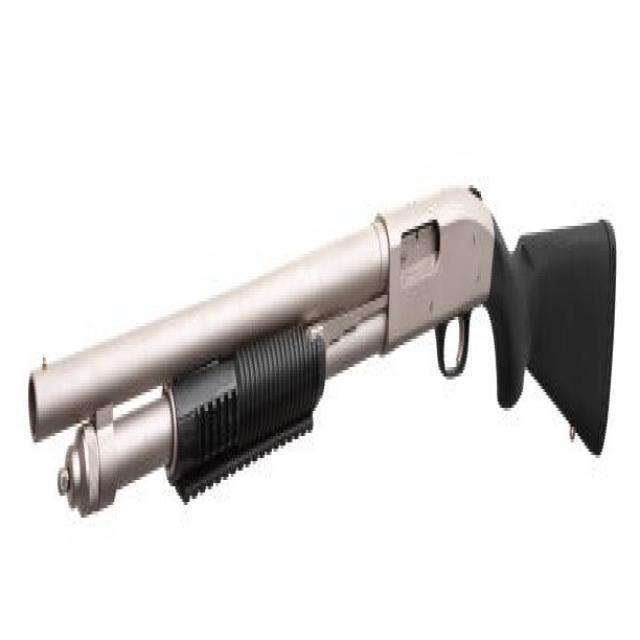rifle: (20, 164, 620, 549)
